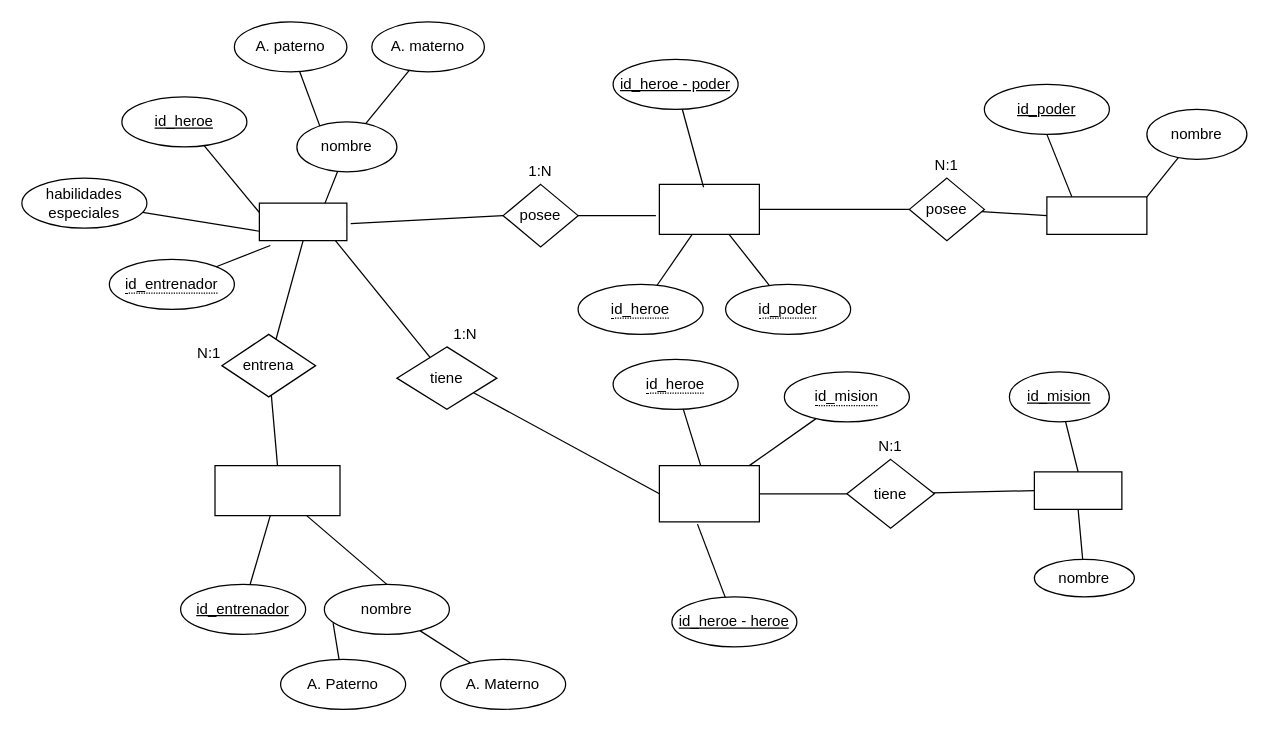
Some shapes in this 1269 by 731 pixel diagram are drawn without their labels. The centre of each missing label's shape, as x and y in pixels:
"ENTRENADOR" belongs at pixel 277 490.
"HEROE" belongs at pixel 302 221.
"HEROE - MISION" belongs at pixel 708 493.
"HEROE -PODER" belongs at pixel 708 208.
"MISIÓN" belongs at pixel 1077 490.
"PODER" belongs at pixel 1096 215.
